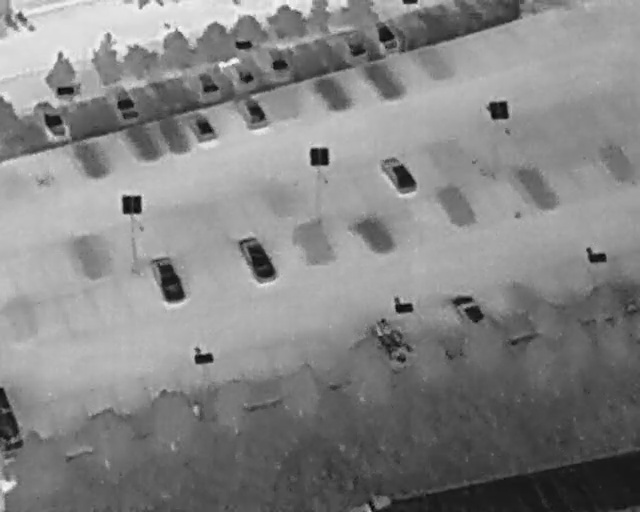Bicycle: (12, 7, 39, 37), (1, 12, 22, 35), (135, 0, 151, 11), (153, 0, 166, 8)
Car: (235, 228, 282, 291), (374, 148, 422, 204), (145, 249, 189, 310), (444, 284, 491, 335), (233, 90, 273, 137), (217, 49, 258, 93), (182, 106, 222, 150), (334, 24, 373, 67), (0, 385, 25, 452), (106, 81, 142, 126), (37, 102, 72, 143), (369, 15, 403, 57), (189, 63, 223, 102), (262, 42, 293, 78)
